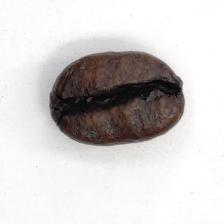NG: (62, 67, 177, 132)
